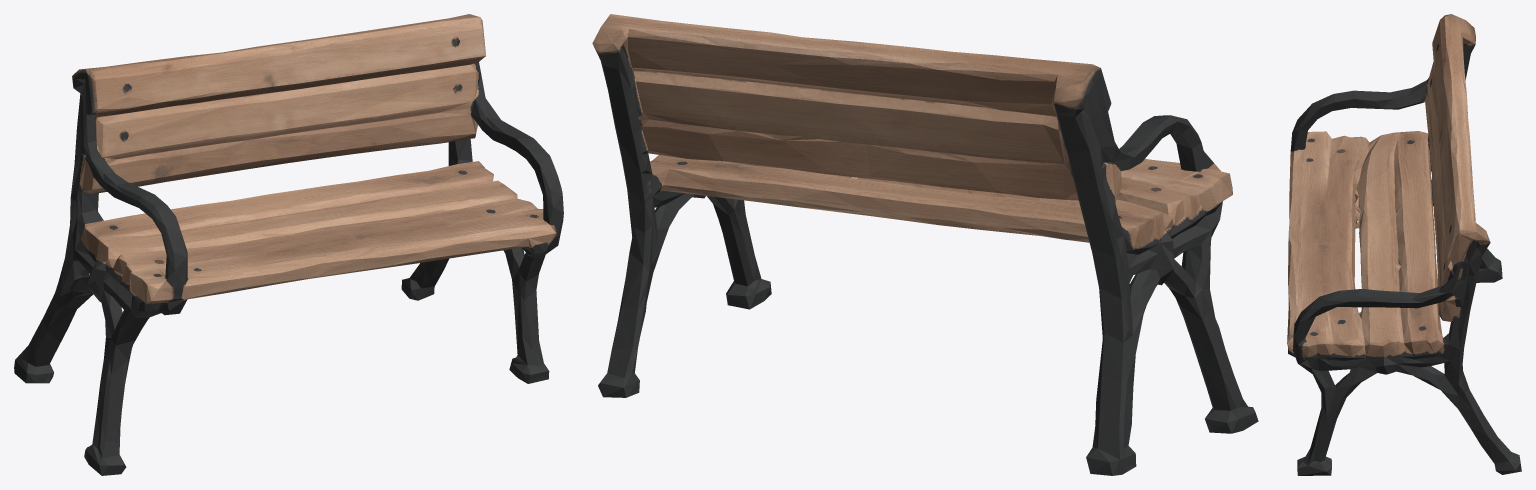
File: bench.fbx
3 renders of one model, left to right at view 1: azimuth 30°, elevation 25°; view 2: azimuth 150°, elevation 25°; view 3: azimuth 270°, elevation 25°, orthographic. The views are drawn at different scales.
Visible parts, largest first — view 1: Mesh_0; view 2: Mesh_0; view 3: Mesh_0.
Part boxes in pixels (x1,y1,x2,y2): Mesh_0: (14,14,563,475); Mesh_0: (592,14,1258,475); Mesh_0: (1287,14,1521,475).
Bounding box in the file's own units: 1.21 × 0.85 × 0.6032.
Materials: 1 (1 with a texture image).
